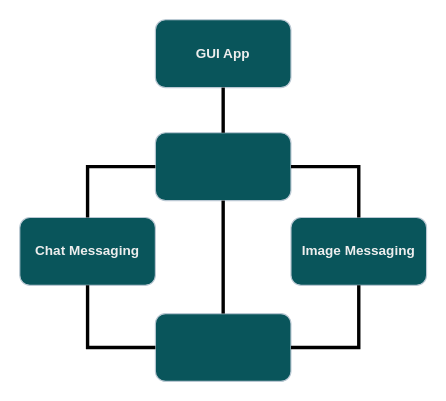
Image size: 446x401. Some labels were removed from this diagram. The shapes that lost their labels are listed below. From the top down, each one's centre as x and y in pixels, then its label:
At point 222,166: "View Model".
At point 222,346: "Networking".
